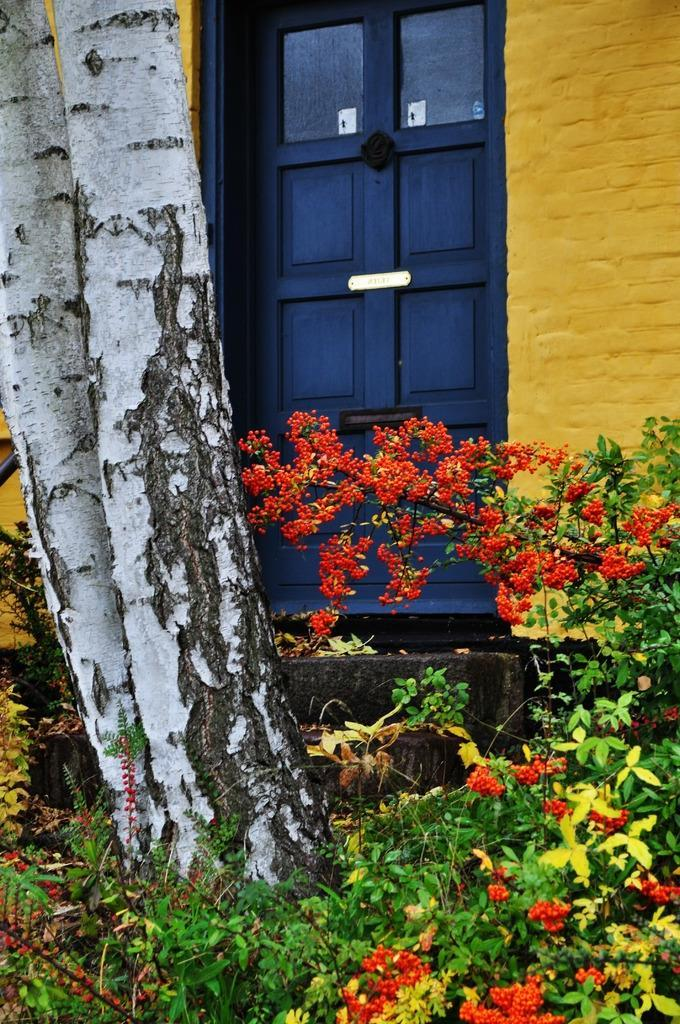door: (259, 32, 487, 598)
